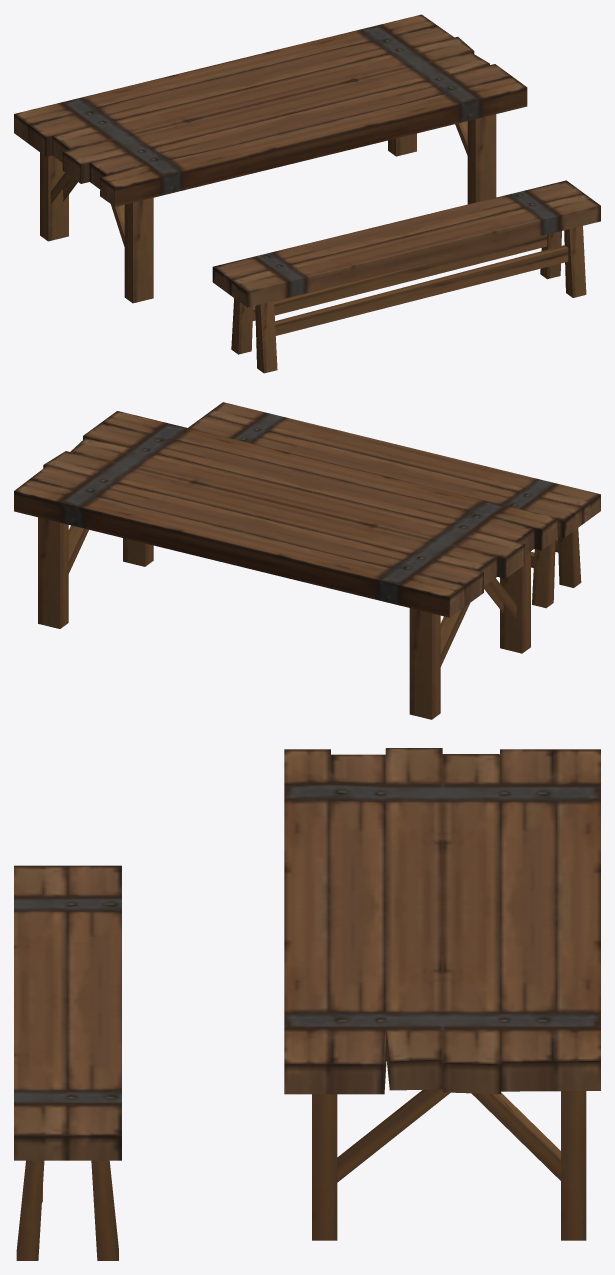
The model's file is 2_YiZhan_ZaWu_ZhuoZi_01.FBX.
3 views of the same model, one above another, from view 1: azimuth 30°, elevation 25°; view 2: azimuth 150°, elevation 25°; view 3: azimuth 270°, elevation 25° (orthographic). The views are drawn at different scales.
Visible parts, largest first — view 1: 2_YiZhan_ZaWu_ZhuoZi_01, 2_YiZhan_ZaWu_YiZi_01; view 2: 2_YiZhan_ZaWu_ZhuoZi_01, 2_YiZhan_ZaWu_YiZi_01; view 3: 2_YiZhan_ZaWu_ZhuoZi_01, 2_YiZhan_ZaWu_YiZi_01.
Boxes of the visible parts, x1=… form: 2_YiZhan_ZaWu_ZhuoZi_01: x1=14, y1=14, x2=527, y2=303; 2_YiZhan_ZaWu_YiZi_01: x1=212, y1=180, x2=600, y2=373; 2_YiZhan_ZaWu_ZhuoZi_01: x1=14, y1=411, x2=557, y2=719; 2_YiZhan_ZaWu_YiZi_01: x1=188, y1=402, x2=600, y2=608; 2_YiZhan_ZaWu_ZhuoZi_01: x1=284, y1=748, x2=600, y2=1240; 2_YiZhan_ZaWu_YiZi_01: x1=14, y1=865, x2=121, y2=1260.
Bounding box in the file's own units: 349 × 112 × 273.
